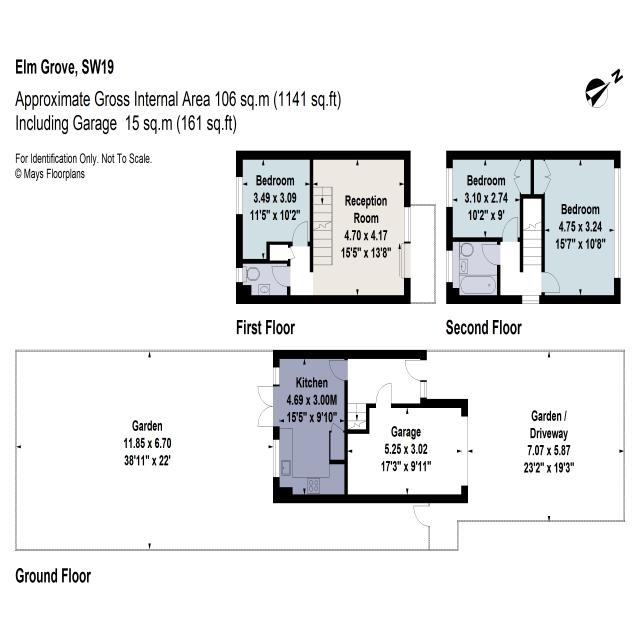DOOR: (541, 271, 562, 295), (404, 360, 427, 381), (501, 216, 519, 242), (271, 265, 291, 288), (328, 359, 348, 382), (291, 220, 308, 247), (375, 382, 392, 409), (481, 244, 501, 266)
DOUBLE DOOR: (257, 385, 280, 428)
ROOM: (271, 150, 411, 304), (530, 150, 621, 304), (257, 349, 348, 503), (236, 150, 314, 264), (446, 150, 534, 242)
WINDOW: (613, 167, 621, 280), (235, 176, 243, 215), (403, 206, 411, 242), (446, 168, 453, 208), (273, 439, 280, 478), (446, 250, 453, 283), (522, 294, 540, 304), (272, 367, 280, 386), (420, 381, 427, 399), (236, 267, 243, 283)
